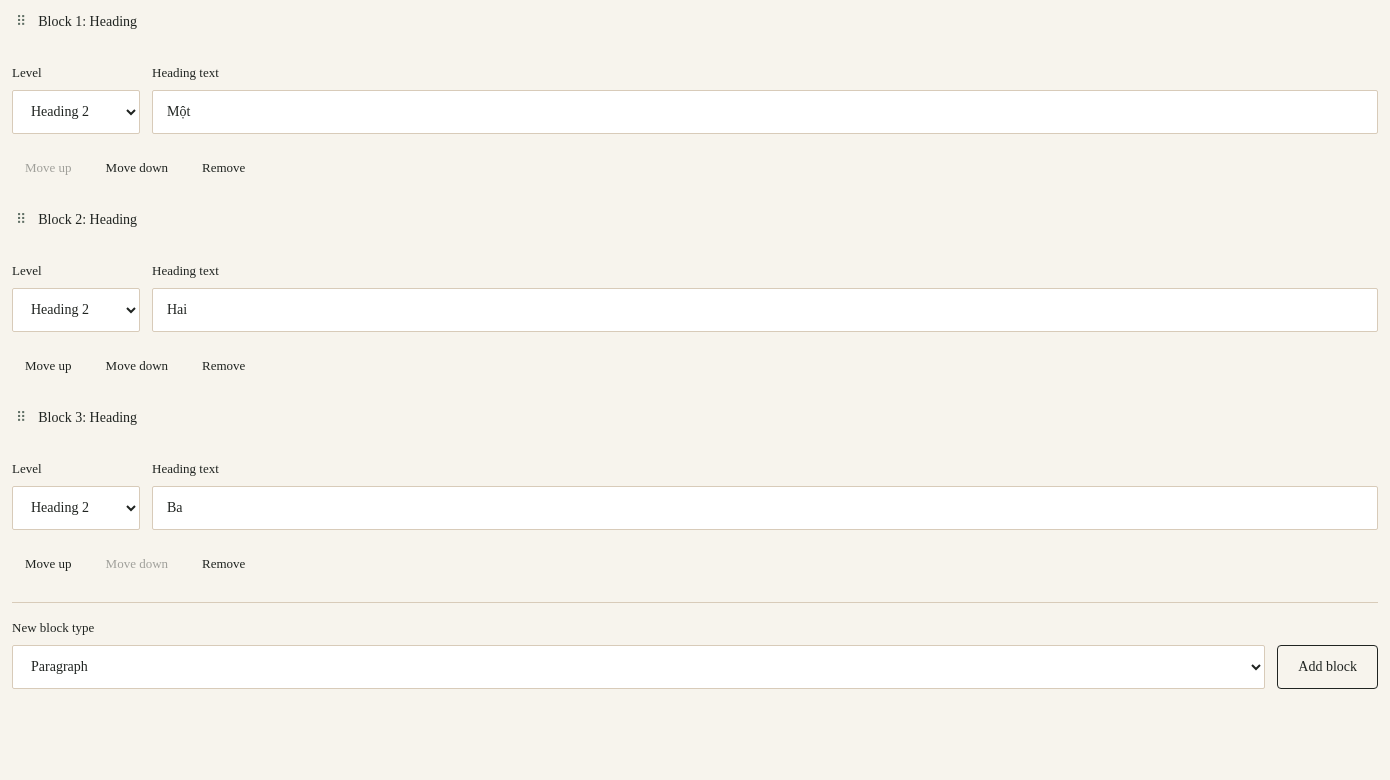
Test case: ordering and removal › removes a block
Click the button with aria-label "Remove block 2 (Heading)".
click(224, 366)  # box x1=189 y1=348 x2=258 y2=384
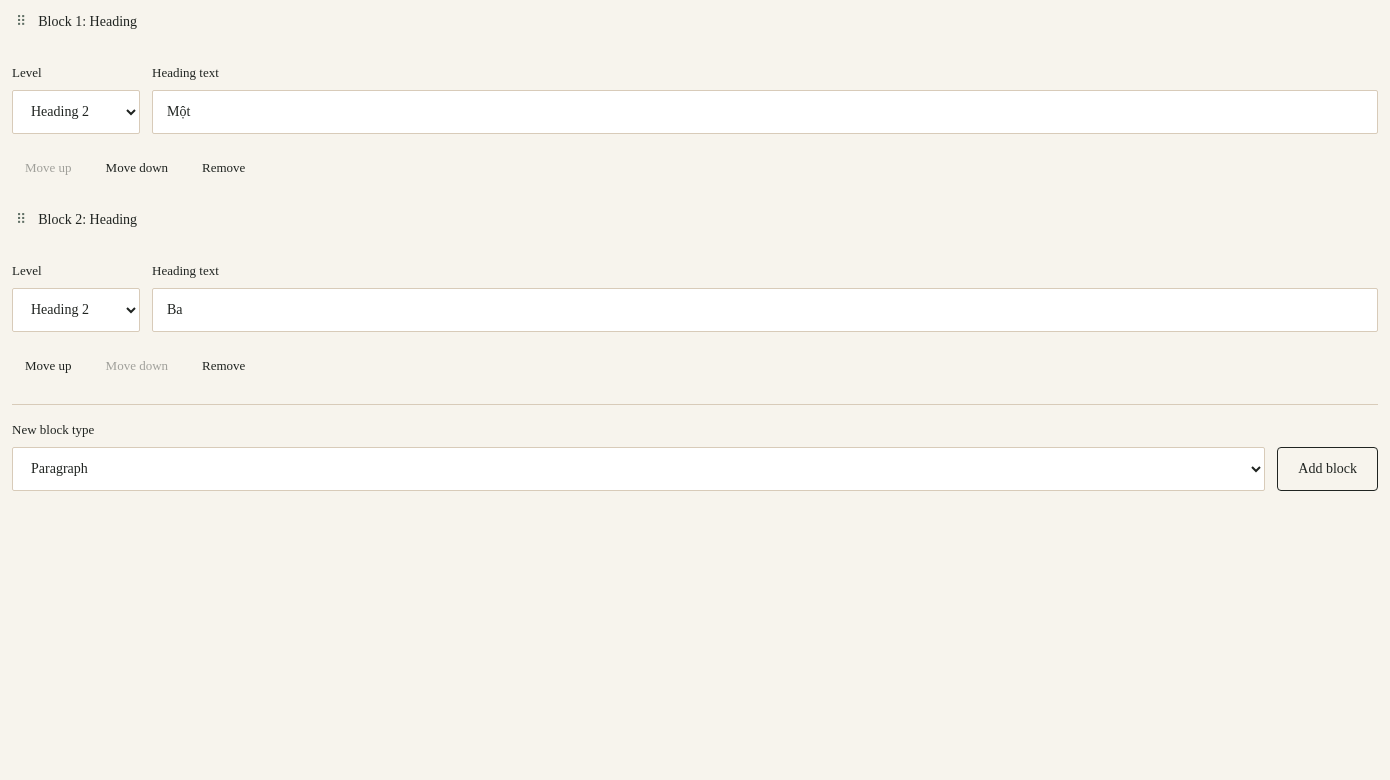
Expected: the number of list items with test id "knowledge-block" is 2, x1=12 y1=12 x2=1378 y2=186; x1=12 y1=210 x2=1378 y2=384
